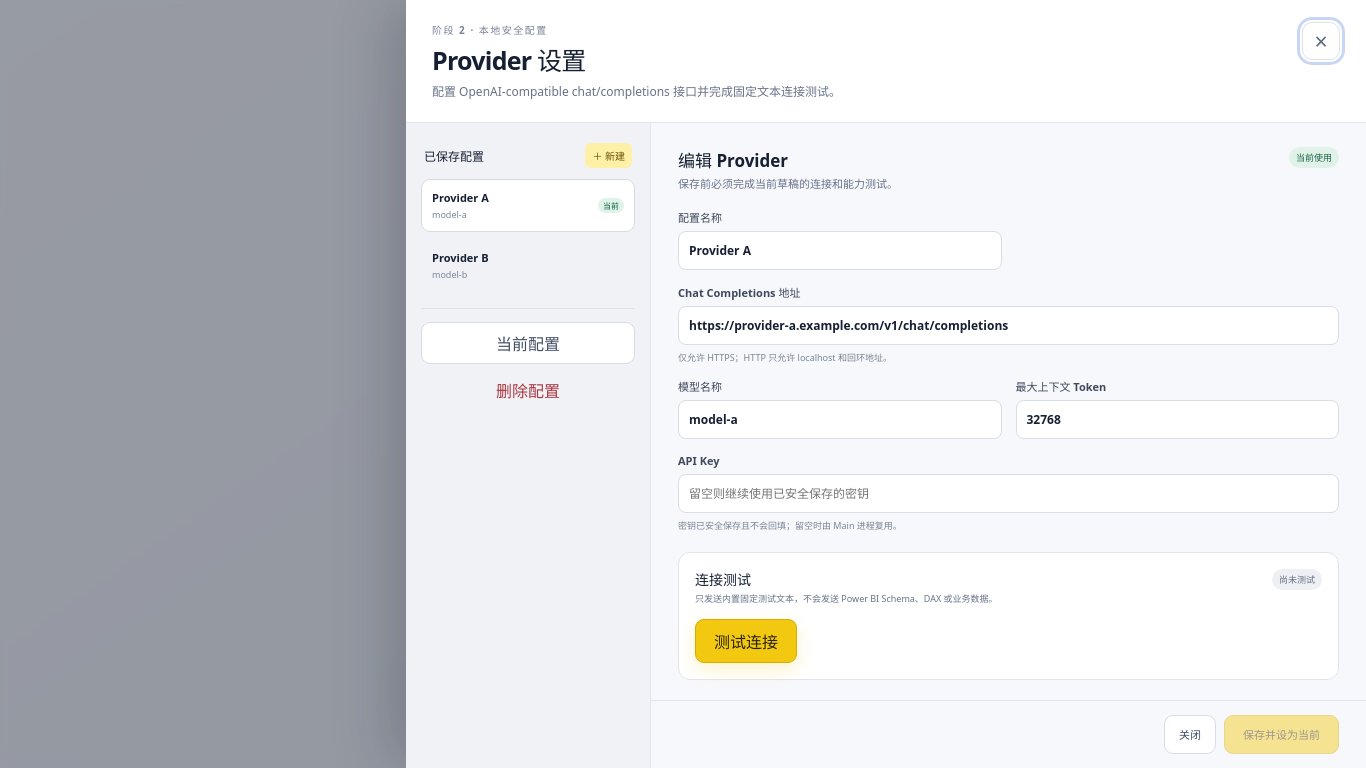
Test: ProviderSettingsDialog 阶段 2 Renderer › 不会丢失早于 start IPC 返回的极快 Provider 事件
Expected: the field showing "Provider A" is shown, [678,231,1002,270]
Click the button "测试连接" at coordinates (746, 641), box [695,619,797,663]
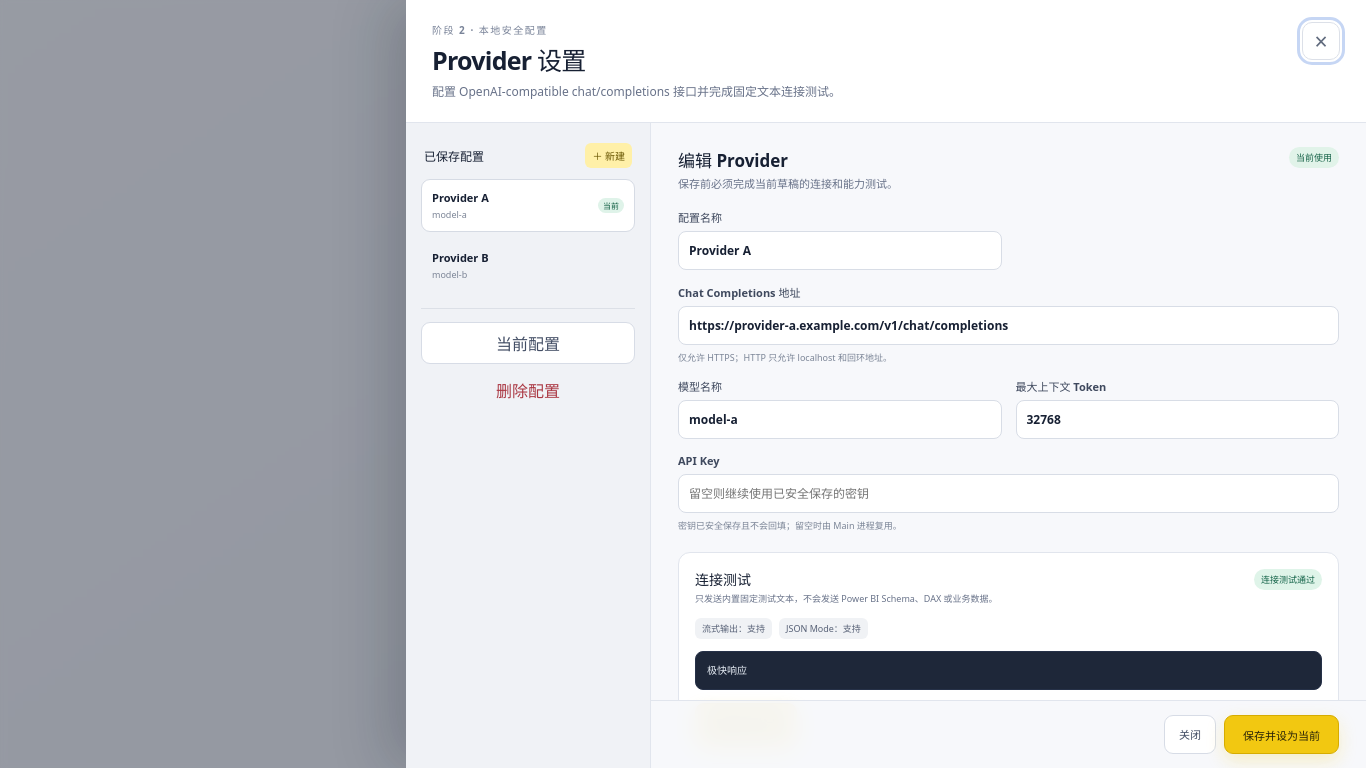
Now the text "连接测试通过" is shown, box [1254,569,1322,590]
Now the text named "固定测试文本响应" reads "极快响应", box [707,665,747,676]
Now the button "保存并设为当前" is enabled, box [1224,715,1339,754]
